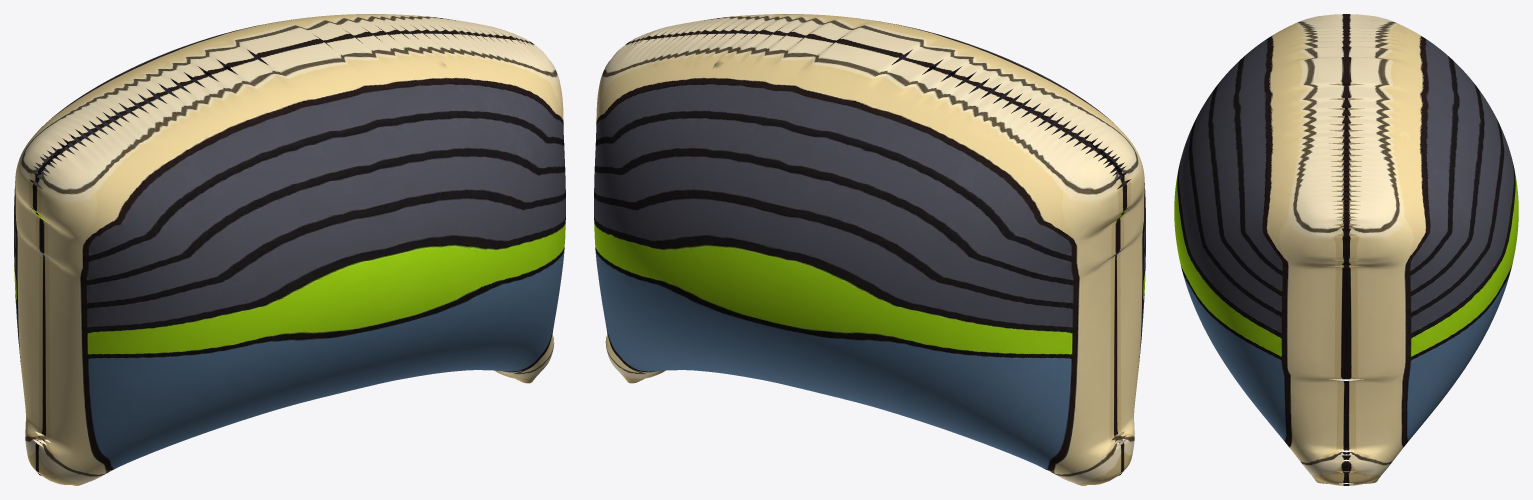
Rendered from curved_wall_section.glb.
3 views of the same model, side by side, from view 1: azimuth 30°, elevation 25°; view 2: azimuth 150°, elevation 25°; view 3: azimuth 270°, elevation 25° (orthographic). The views are drawn at different scales.
Visible parts, largest first — view 1: curved_wall_section; view 2: curved_wall_section; view 3: curved_wall_section.
Boxes of the visible parts, x1,y1,x2,y2 form: curved_wall_section: (14, 14, 565, 485); curved_wall_section: (594, 14, 1145, 485); curved_wall_section: (1174, 14, 1518, 485).
Size of the model in its own units: 0.989 by 0.6989 by 0.6832.
1 material, 1 textured.
